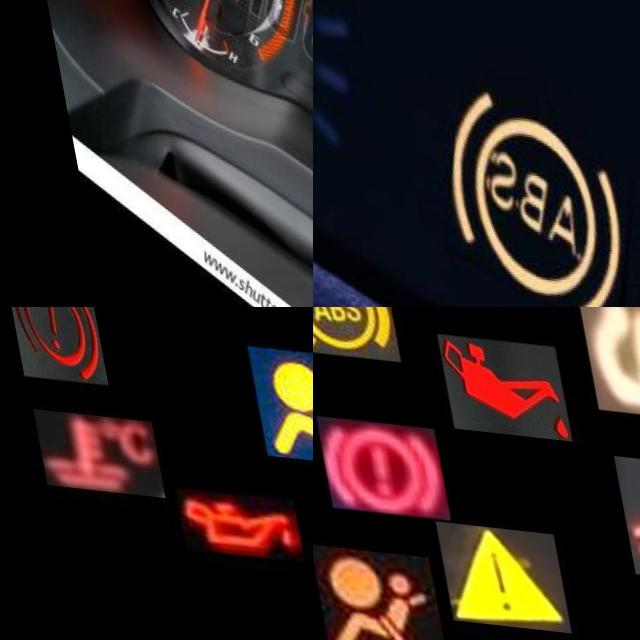Central Warning lamp: (424, 515, 556, 624)
Engine cooling system: (27, 408, 156, 494), (605, 444, 640, 572)
